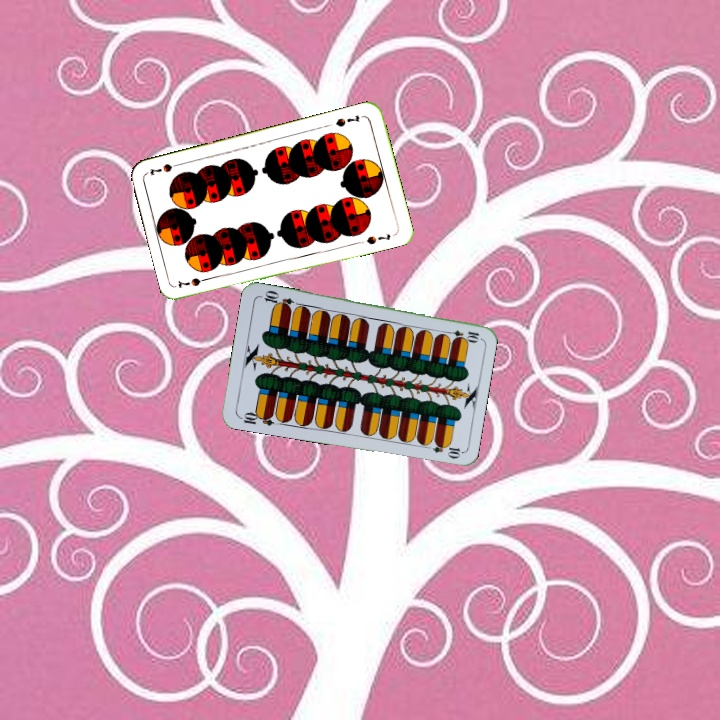E10: (236, 408, 276, 428), (441, 326, 482, 343)
S7: (174, 273, 214, 291), (331, 111, 362, 129)
